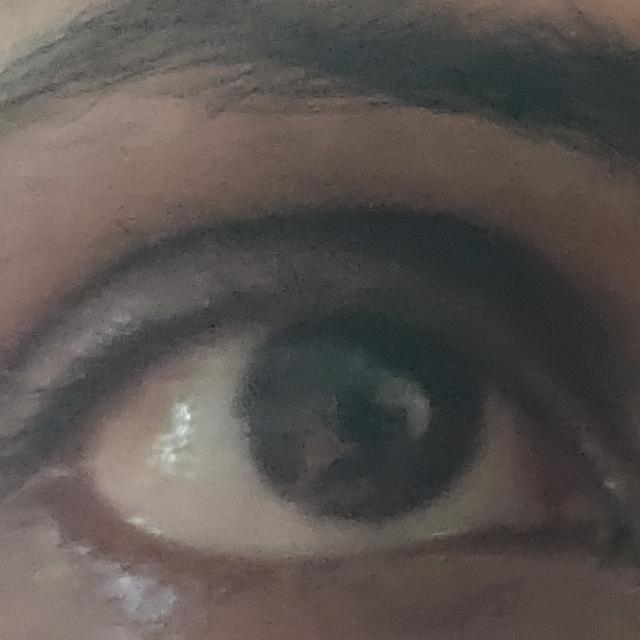eye: (76, 327, 563, 562)
iris: (232, 327, 489, 529)
